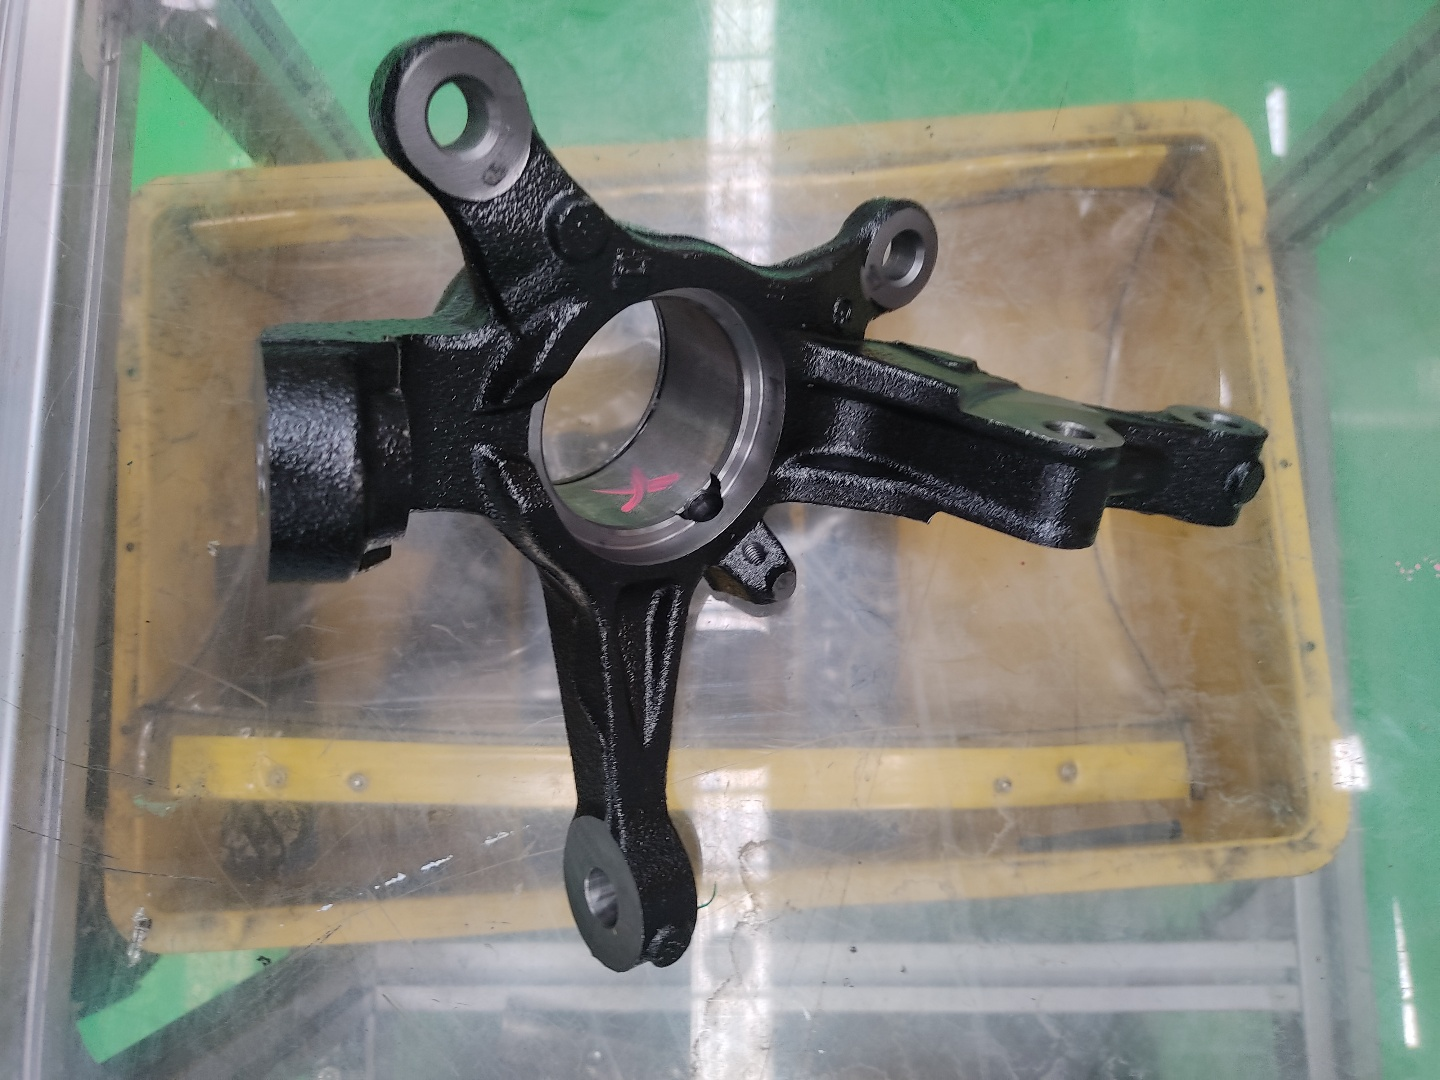abs-rh: (242, 22, 1280, 980)
